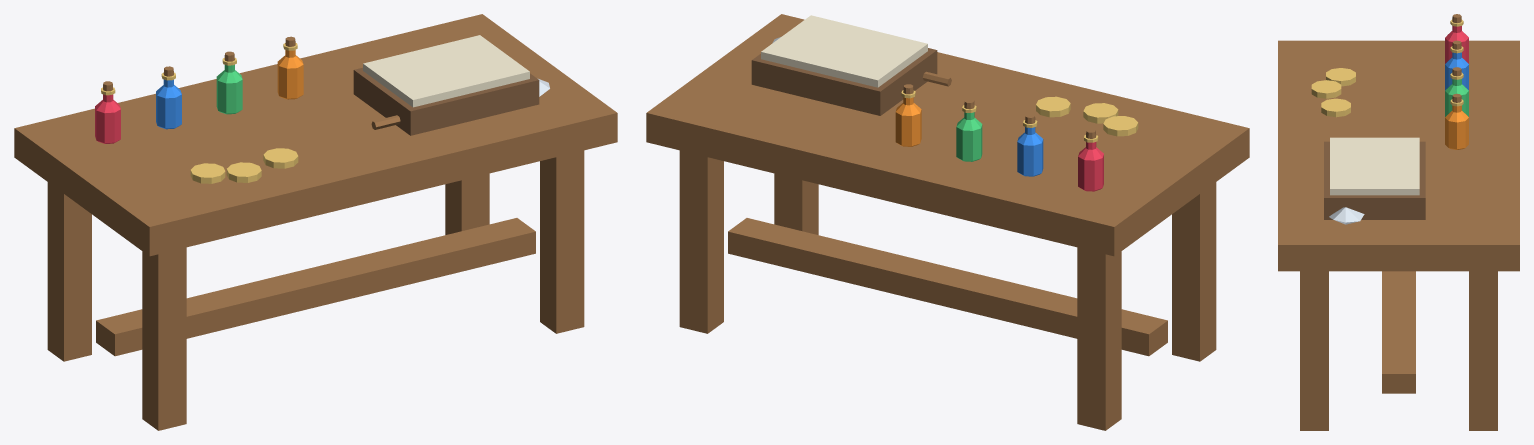
The model's file is merchant_wares_table.glb.
3 renders of one model, left to right at view 1: azimuth 30°, elevation 25°; view 2: azimuth 150°, elevation 25°; view 3: azimuth 270°, elevation 25°, orthographic. The views are drawn at different scales.
Visible parts, largest first — view 1: merchant_wares_table; view 2: merchant_wares_table; view 3: merchant_wares_table.
Part boxes in pixels (<box>): merchant_wares_table: <box>14,14,617,430</box>; merchant_wares_table: <box>646,14,1249,430</box>; merchant_wares_table: <box>1278,14,1519,430</box>.
Bounding box in the file's own units: 2 × 1.12 × 1.
